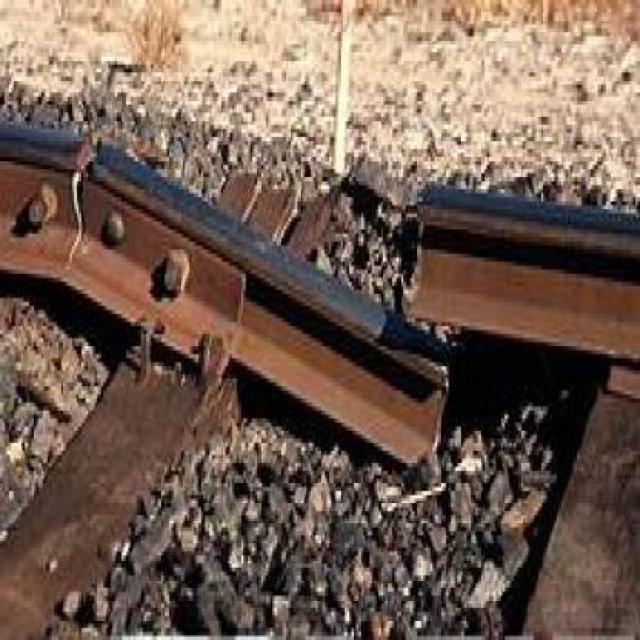defective: (0, 95, 640, 533)
